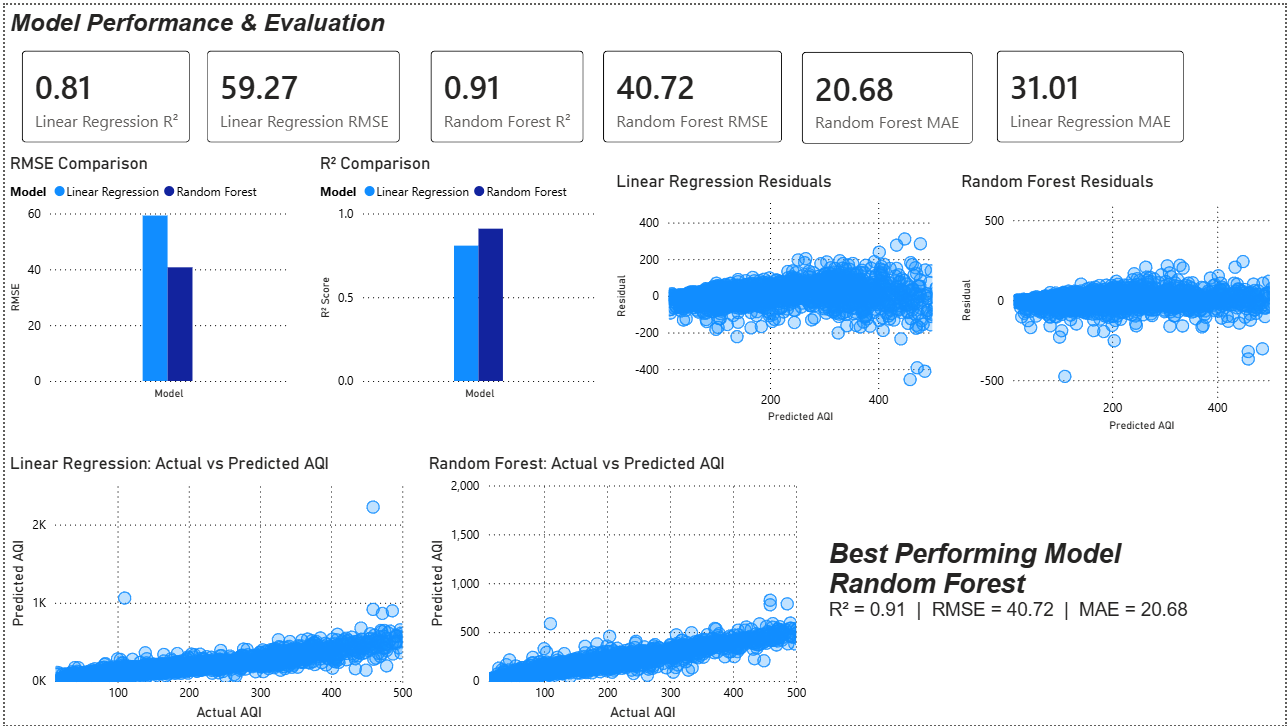

The dashboard page shown, as its layout file describes it:
{"tool":"powerbi","page":{"name":"Page 4","canvas":[1280,720],"ordinal":3},"visuals":[{"type":"cardVisual","fields":{"Data":["metrics_df.LR MAE"]},"box":[975,28.8,221.2,126.2],"z":1000},{"type":"cardVisual","fields":{"Data":["metrics_df.LR RMSE"]},"box":[185,28.8,227.5,126.2],"z":2000},{"type":"cardVisual","fields":{"Data":["metrics_df.RF MAE"]},"box":[780,30,205,126.2],"z":3000},{"type":"cardVisual","fields":{"Data":["metrics_df.RF RMSE"]},"box":[581.2,28.8,213.8,126.2],"z":4000},{"type":"cardVisual","fields":{"Data":["metrics_df.RF R2"]},"box":[408.8,28.8,187.5,126.2],"z":5000},{"type":"cardVisual","fields":{"Data":["metrics_df.LR R2"]},"box":[0,28.8,202.5,126.2],"z":6000},{"type":"clusteredColumnChart","title":"RMSE Comparison","fields":{"Series":["metrics_df.Model"],"Y":["Sum(metrics_df.RMSE)"]},"box":[0,147.5,287.5,252.5],"z":7000},{"type":"clusteredColumnChart","title":"R² Comparison","fields":{"Y":["Sum(metrics_df.R2)"],"Series":["metrics_df.Model"]},"box":[310,147.5,286.2,252.5],"z":8000},{"type":"scatterChart","title":"Linear Regression: Actual vs Predicted AQI","fields":{"X":["predictions_df.y_test"],"Y":["predictions_df.y_pred_lr"]},"box":[0,447.5,412.5,272.5],"z":9000},{"type":"scatterChart","title":"Random Forest: Actual vs Predicted AQI","fields":{"X":["predictions_df.y_test"],"Y":["predictions_df.y_pred_rf"]},"box":[418.8,447.5,387.5,272.5],"z":10000},{"type":"scatterChart","title":"Linear Regression Residuals","fields":{"X":["predictions_df.y_test"],"Y":["predictions_df.residuals_lr"]},"box":[606.2,166.2,336.2,256.2],"z":11000},{"type":"scatterChart","title":"Random Forest Residuals","fields":{"X":["predictions_df.y_test"],"Y":["predictions_df.residuals_rf"]},"box":[951.2,166.2,328.8,265],"z":12000},{"type":"textbox","box":[0,0,428.8,37.5],"z":13000},{"type":"textbox","box":[818.8,528.8,397.5,110],"z":13001}]}

Visuals, with their boxes in screenshot pixels (x1, y1, x2, y2), scaled from the page's 1280x720 canvas onto the 1288x727 screenshot:
cardVisual - metrics_df.LR MAE: 981 29 1204 157
cardVisual - metrics_df.LR RMSE: 186 29 415 157
cardVisual - metrics_df.RF MAE: 785 30 991 158
cardVisual - metrics_df.RF RMSE: 585 29 800 157
cardVisual - metrics_df.RF R2: 411 29 600 157
cardVisual - metrics_df.LR R2: 0 29 204 157
"RMSE Comparison" clusteredColumnChart: 0 149 289 404
"R² Comparison" clusteredColumnChart: 312 149 600 404
"Linear Regression: Actual vs Predicted AQI" scatterChart: 0 452 415 726
"Random Forest: Actual vs Predicted AQI" scatterChart: 421 452 811 726
"Linear Regression Residuals" scatterChart: 610 168 948 427
"Random Forest Residuals" scatterChart: 957 168 1287 435
textbox: 0 0 431 38
textbox: 824 534 1224 645
